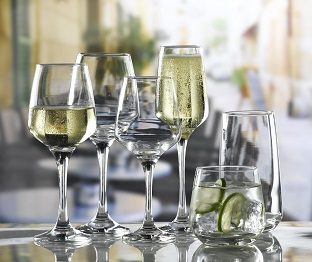Nonrec_Glass: (29, 56, 99, 249), (111, 72, 178, 241), (74, 49, 131, 235), (156, 32, 203, 240), (217, 106, 287, 235), (188, 161, 269, 251)
